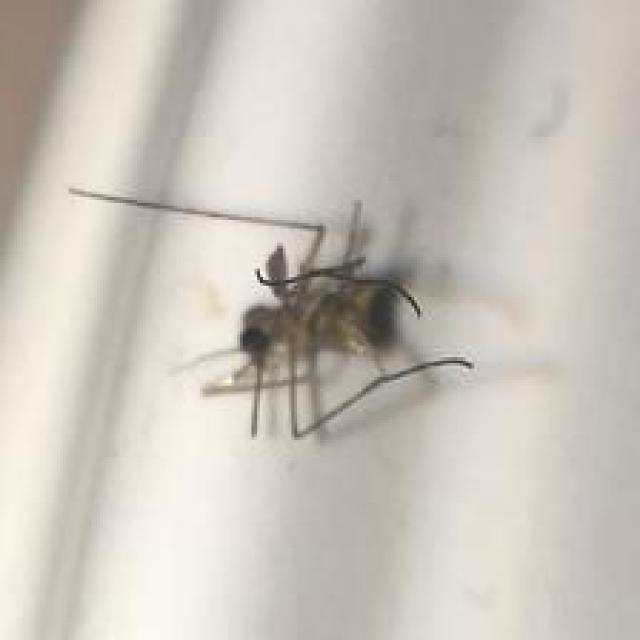Culex: (67, 185, 476, 442)
